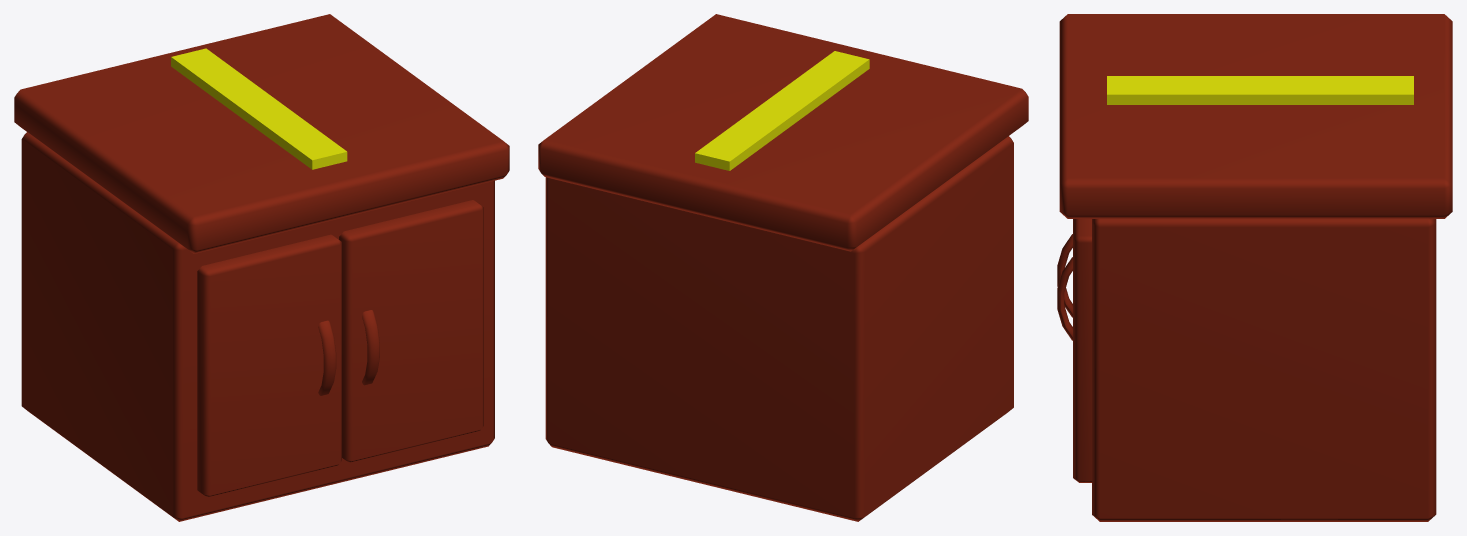
3 views of the same model, side by side, from view 1: azimuth 30°, elevation 25°; view 2: azimuth 150°, elevation 25°; view 3: azimuth 270°, elevation 25° (orthographic). The views are drawn at different scales.
Parts seen in each view (by area): view 1: Cube.001, Text; view 2: Cube.001, Text; view 3: Cube.001, Text.
Boxes of the visible parts, x1,y1,x2,y2 form: Cube.001: (14, 14, 509, 521); Text: (171, 48, 347, 169); Cube.001: (538, 14, 1028, 521); Text: (695, 51, 869, 170); Cube.001: (1057, 14, 1452, 521); Text: (1107, 76, 1413, 104).
Bounding box in the file's own units: 89.87 × 86.87 × 87.83.
